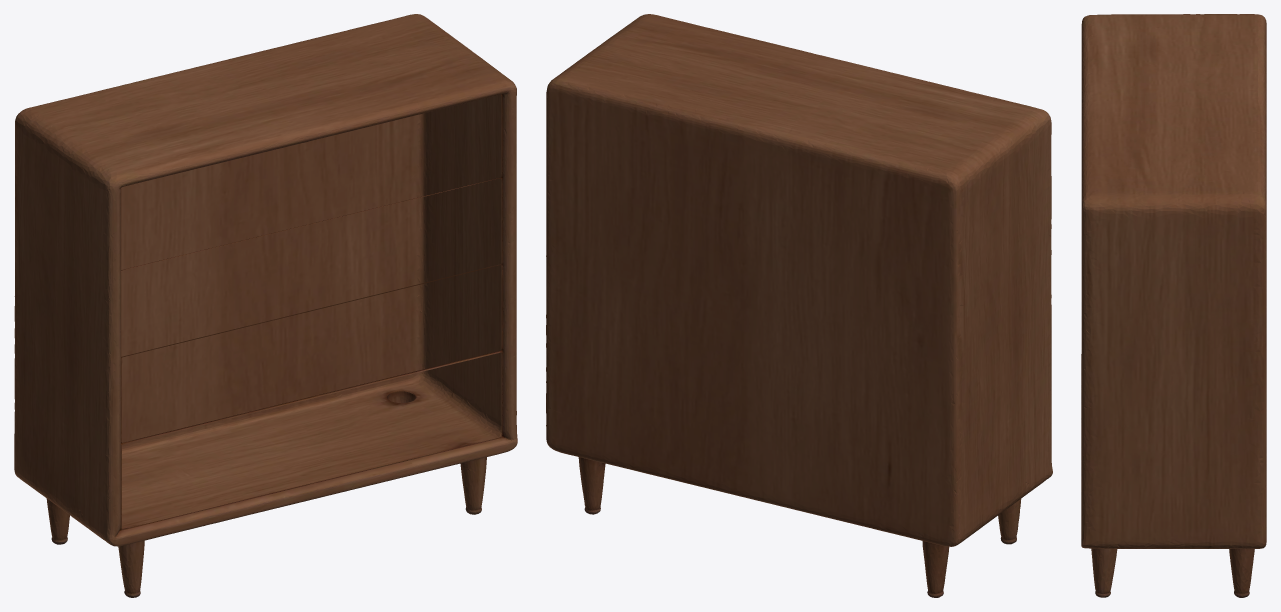
Rendered from body.glb.
3 renders of one model, left to right at view 1: azimuth 30°, elevation 25°; view 2: azimuth 150°, elevation 25°; view 3: azimuth 270°, elevation 25°, orthographic. The views are drawn at different scales.
Parts seen in each view (by area): view 1: source_surface_0; view 2: source_surface_0; view 3: source_surface_0.
Boxes of the visible parts, x1,y1,x2,y2 form: source_surface_0: [14, 14, 517, 597]; source_surface_0: [546, 14, 1052, 597]; source_surface_0: [1081, 14, 1266, 597].
Bounding box in the file's own units: 0.9972 × 1 × 0.408.
1 material, 1 textured.
